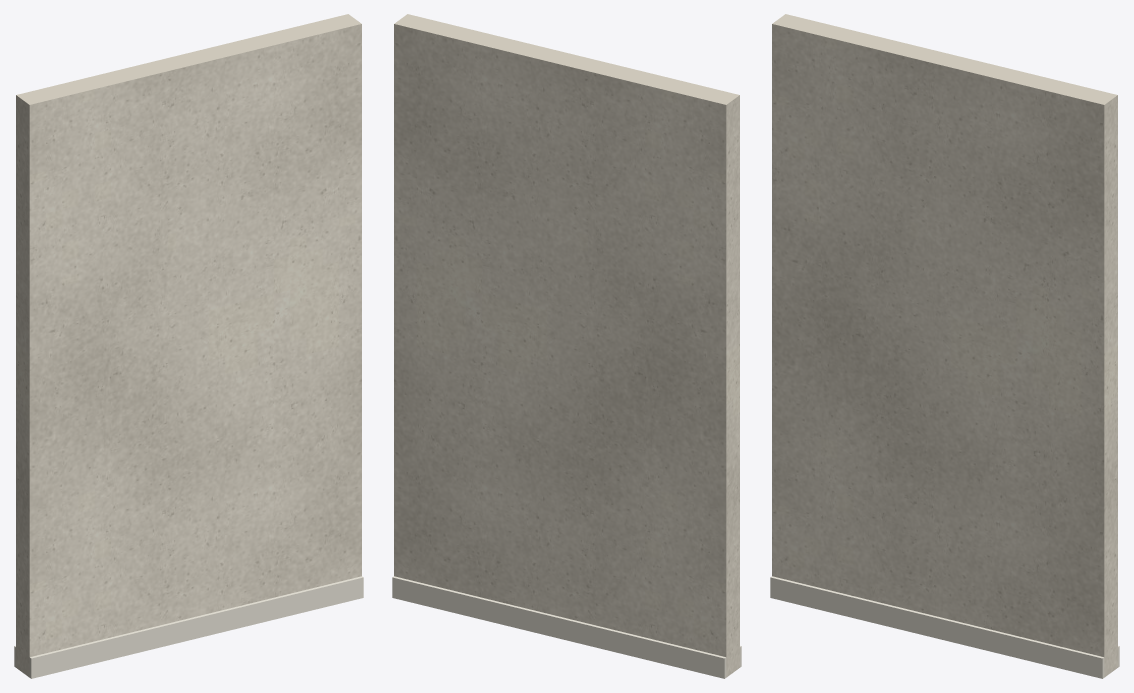
File: interior_wall_end.glb
3 renders of one model, left to right at view 1: azimuth 30°, elevation 25°; view 2: azimuth 150°, elevation 25°; view 3: azimuth 330°, elevation 25°, orthographic.
Visible parts, largest first — view 1: interior_wall_end_plaster, interior_wall_end_trim; view 2: interior_wall_end_plaster, interior_wall_end_trim; view 3: interior_wall_end_plaster, interior_wall_end_trim.
Boxes of the visible parts, x1,y1,x2,y2 form: interior_wall_end_plaster: [16, 14, 361, 677]; interior_wall_end_trim: [14, 576, 363, 678]; interior_wall_end_plaster: [394, 14, 739, 677]; interior_wall_end_trim: [392, 576, 741, 678]; interior_wall_end_plaster: [772, 14, 1117, 677]; interior_wall_end_trim: [770, 576, 1119, 678].
Size of the model in its own units: 1.7 by 2.8 by 0.15.
Materials: 2 (1 with a texture image).
